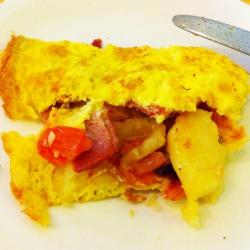omelette: (4, 36, 240, 130), (8, 133, 227, 211)
